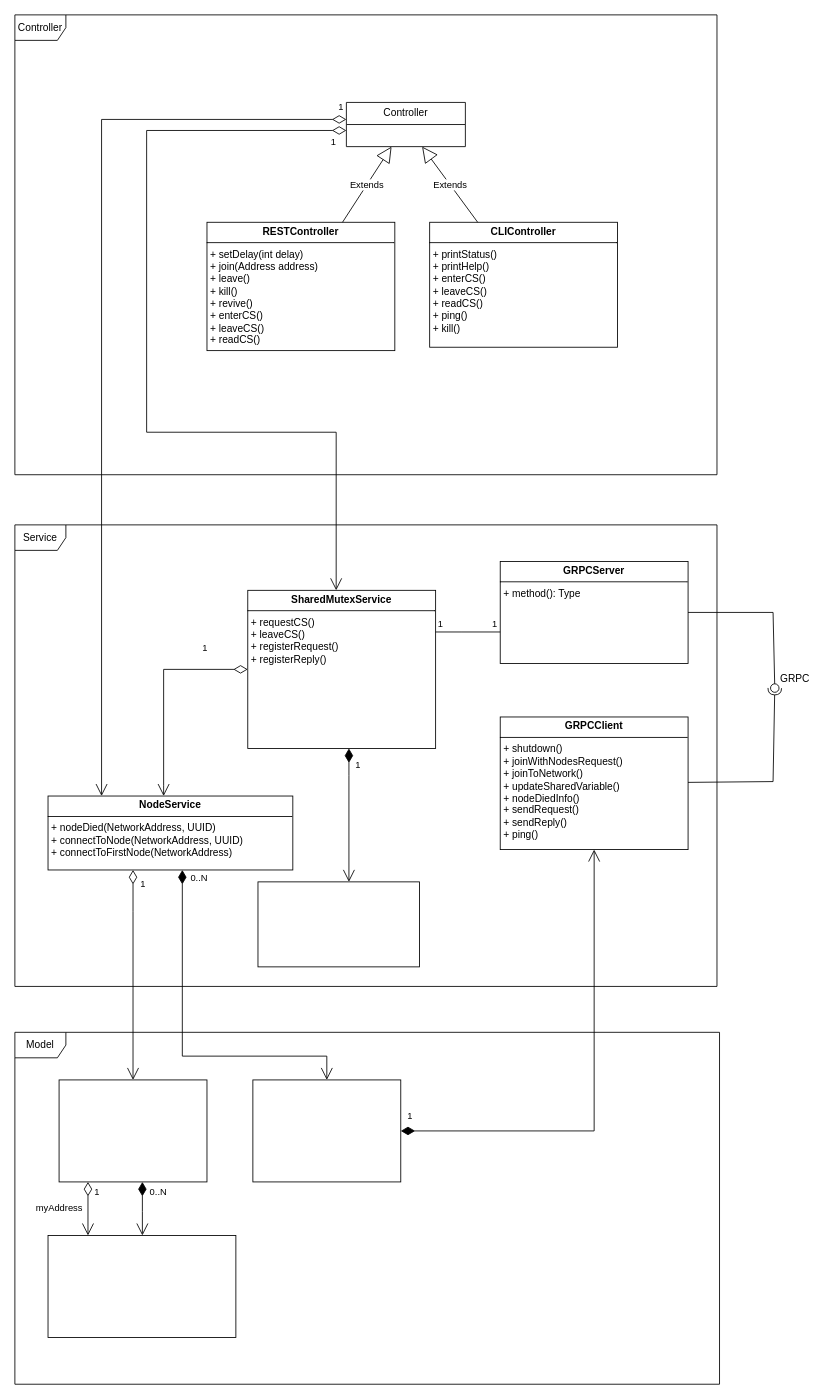
Image size: 836x1399. Some labels were removed from this diagram. The centre of each missing label's shape, as x and y in pixels:
"<<Enum>> Interface IDLE REQUESTING HOLDING" belongs at pixel 338 924.
"NetworkAddress - ipAddress: String - port: int" belongs at pixel 141 1286.
"Node - sharedVariable: int - instanceId: UUID - nodeName: String" belongs at pixel 132 1130.
"OtherNode - hasGranted: boolean - isDeffered: boolean" belongs at pixel 326 1130.
